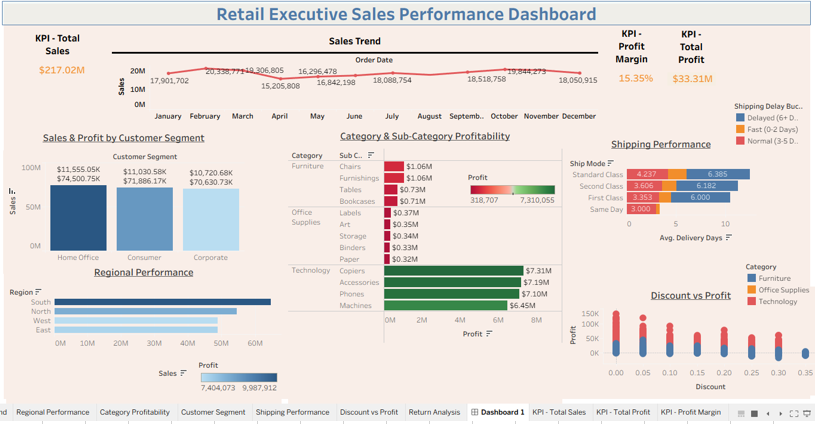

What the dashboard file says about the page in this screenshot:
{"tool":"tableau","page":{"name":"Dashboard 1","canvas":[1000,1000],"units":"permille","ordinal":0},"visuals":[{"type":"text","box":[1.7,0,995.7,68.5]},{"type":"worksheet","title":"KPI - Profit Margin","mark":"Automatic","box":[746.3,62.6,68.4,236.8]},{"type":"worksheet","title":"KPI - Total Profit","mark":"Automatic","box":[819.1,64.6,64.1,238.8]},{"type":"worksheet","title":"KPI - Total Sales","mark":"Automatic","box":[35.5,74.4,83.1,227]},{"type":"worksheet","title":"Sales Trend","mark":"Automatic","rows":["sales"],"cols":["order_date"],"box":[138.5,82.2,595.7,221.1]},{"type":"legend","title":"Shipping Performance","param":"[federated.0l605jb0hc173g13e91nx19wnk90].[none:Calculation_0601724564013061:nk]","box":[901.3,252.5,84.9,168.3]},{"type":"worksheet","title":"Customer Segment","mark":"Automatic","rows":["sales"],"cols":["customer_segment"],"box":[5.2,320.9,296.1,358.1]},{"type":"worksheet","title":"Shipping Performance","mark":"Automatic","rows":["ship_mode"],"cols":["delivery_days"],"box":[695.2,336.6,266.7,409]},{"type":"legend","title":"Category Profitability","param":"[federated.0l605jb0hc173g13e91nx19wnk90].[sum:profit:qk]","box":[574.9,428.6,110,103.7]},{"type":"worksheet","title":"Discount vs Profit","mark":"Circle","rows":["profit"],"cols":["discount"],"box":[691.8,710.4,312.6,270.1]}]}

Visuals, with their boxes on the dashboard's canvas, which has no fixed pixel size, in thousandths of its width and height (x1, y1, x2, y2). These are canvas units, not pixel positions in the 815x424 screenshot, which may show the page scaled, cropped or inside an application window:
text: detection(2, 0, 997, 68)
"KPI - Profit Margin" worksheet: detection(746, 63, 815, 299)
"KPI - Total Profit" worksheet: detection(819, 65, 883, 303)
"KPI - Total Sales" worksheet: detection(36, 74, 119, 301)
"Sales Trend" worksheet: detection(138, 82, 734, 303)
"Shipping Performance" legend: detection(901, 252, 986, 421)
"Customer Segment" worksheet: detection(5, 321, 301, 679)
"Shipping Performance" worksheet: detection(695, 337, 962, 746)
"Category Profitability" legend: detection(575, 429, 685, 532)
"Discount vs Profit" worksheet (Circle marks): detection(692, 710, 1004, 980)
